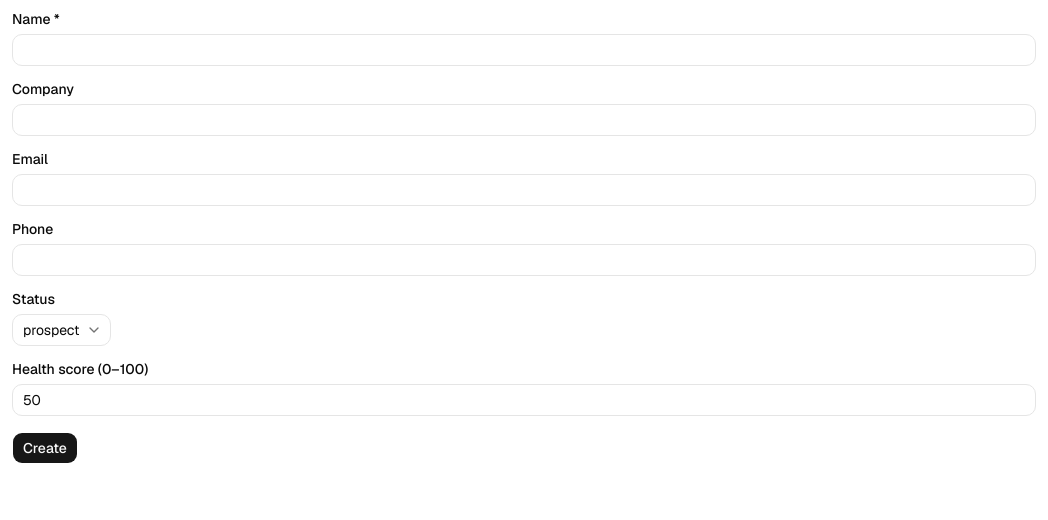
CustomerForm validation › rejects an out-of-range health score
Type "Acme" into the field labelled "Name *" at (524, 50), box [12,34,1036,66]
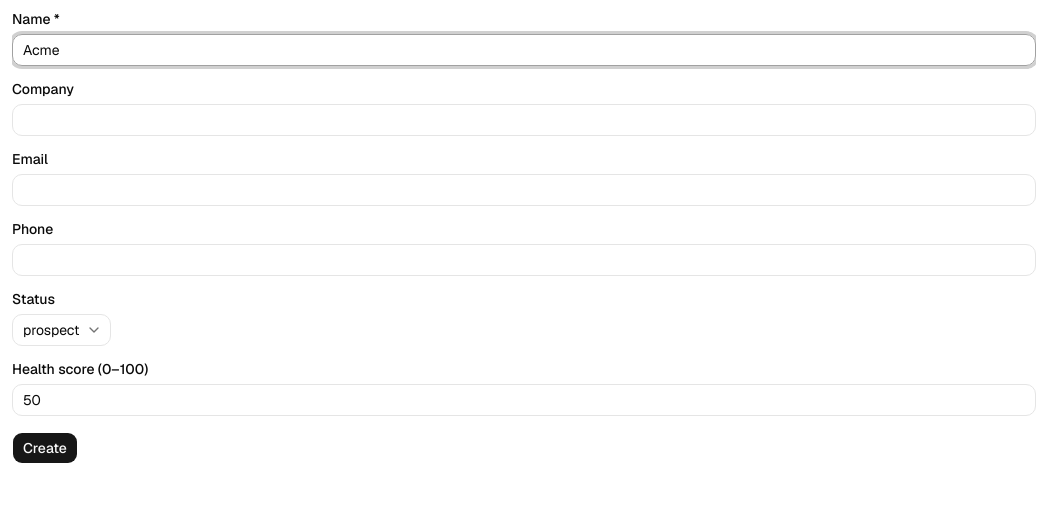
Replace the text in the number field labelled "Health score (0–100)" with "150" at (524, 400), box [12,384,1036,416]
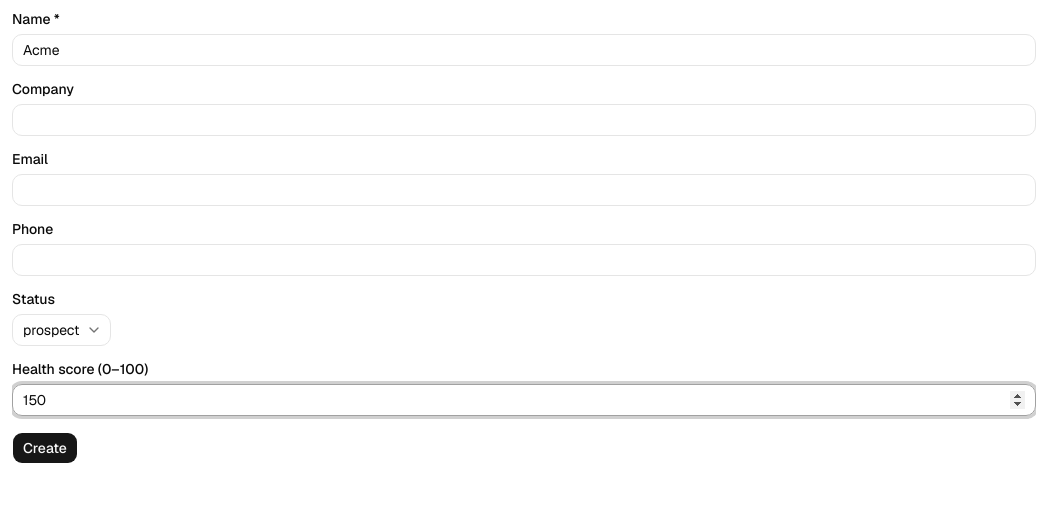
Click the button "Create" at (45, 448), box [12,432,78,464]
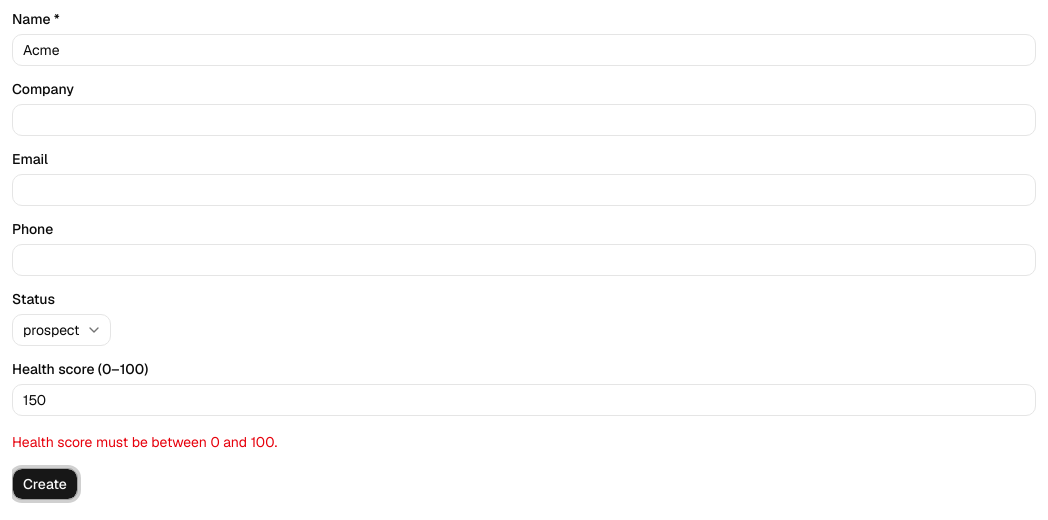
Now the text "Health score must be between 0 and 100." is shown, box [12,433,277,451]
